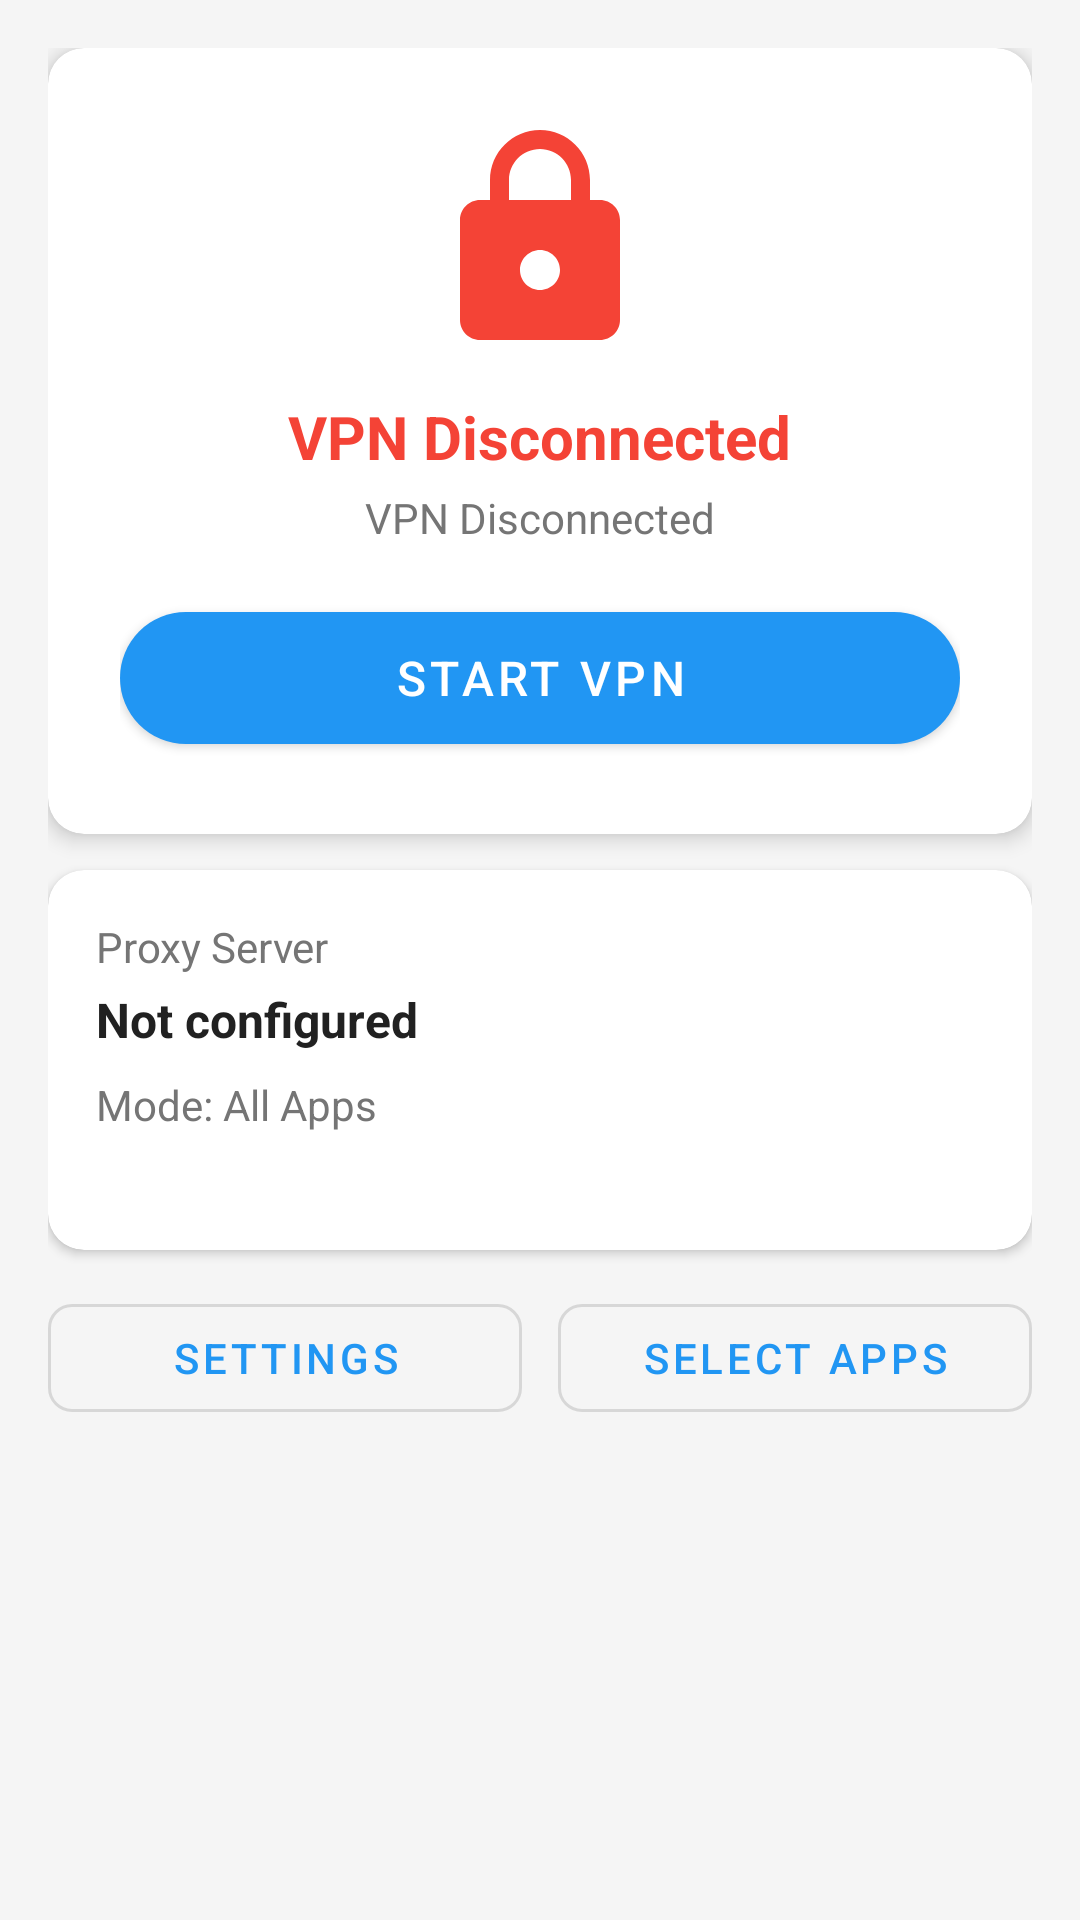

Where to tap for icons on this 1080w x 1920h app screen, as (x,y):
VPN Status Icon: (540,235)
